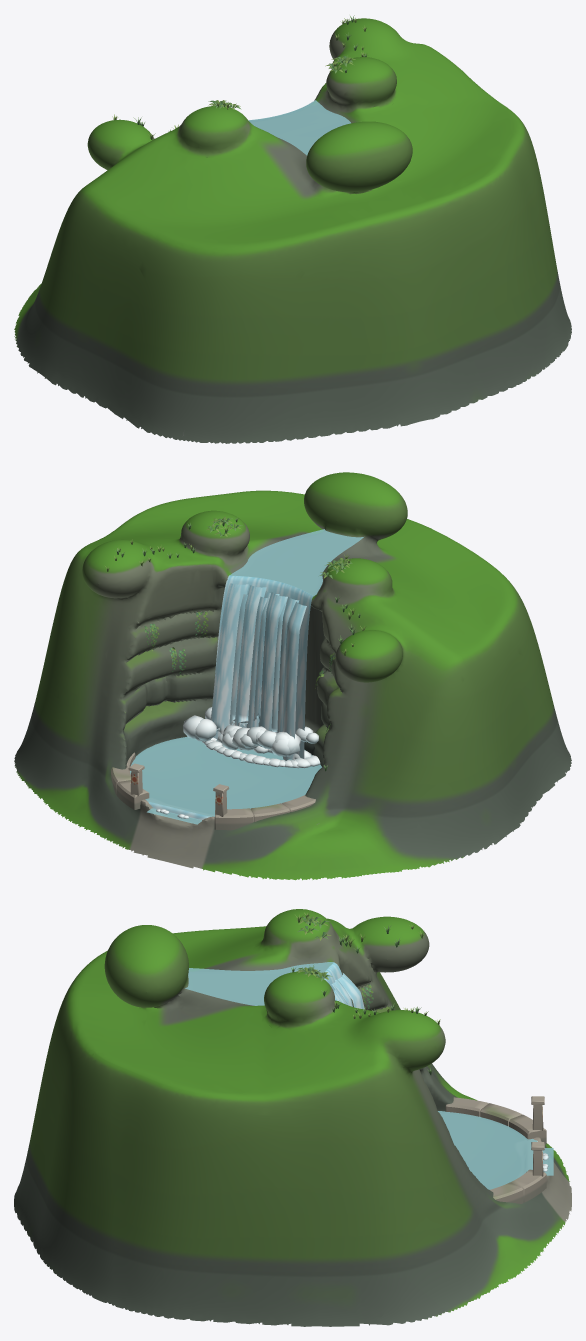
Rendered from head_fall.glb.
3 renders of one model, top to bottom at view 1: azimuth 30°, elevation 25°; view 2: azimuth 150°, elevation 25°; view 3: azimuth 270°, elevation 25°, orthographic. The views are drawn at different scales.
Visible parts, largest first — view 1: head_fall_rock, head_fall_water, head_fall_plants; view 2: head_fall_rock, head_fall_sheet, head_fall_water, head_fall_mist, head_fall_plants, head_fall_foam; view 3: head_fall_rock, head_fall_water, head_fall_plants, head_fall_sheet.
Boxes of the visible parts, left/top/right/bottom form: head_fall_rock: left=14, top=18, right=571, bottom=443; head_fall_water: left=248, top=100, right=350, bottom=155; head_fall_plants: left=112, top=15, right=366, bottom=139; head_fall_rock: left=14, top=472, right=571, bottom=880; head_fall_sheet: left=148, top=575, right=313, bottom=819; head_fall_water: left=130, top=529, right=363, bottom=824; head_fall_mist: left=183, top=707, right=318, bottom=756; head_fall_plants: left=105, top=517, right=365, bottom=771; head_fall_foam: left=156, top=734, right=320, bottom=818; head_fall_rock: left=14, top=909, right=571, bottom=1326; head_fall_water: left=185, top=962, right=553, bottom=1189; head_fall_plants: left=291, top=912, right=440, bottom=1074; head_fall_sheet: left=322, top=962, right=537, bottom=1141.
Size of the model in its own units: 90.54 by 45.8 by 85.88.
6 materials, 5 textured.
